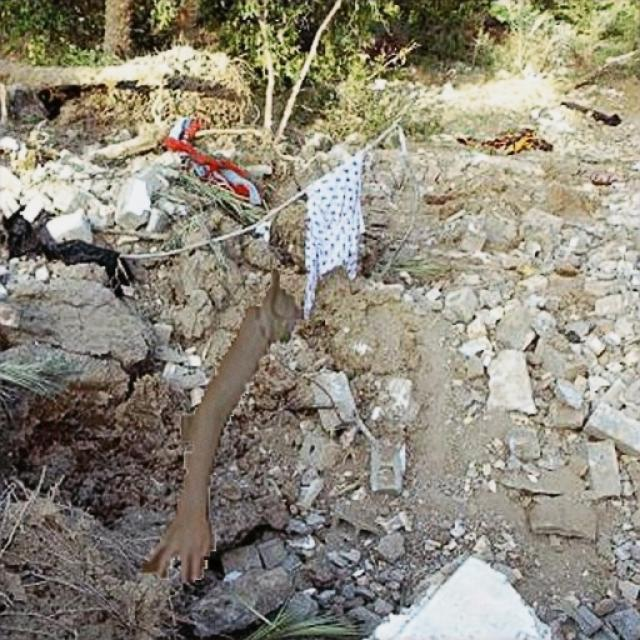Person in Rubble: (142, 270, 302, 581)
